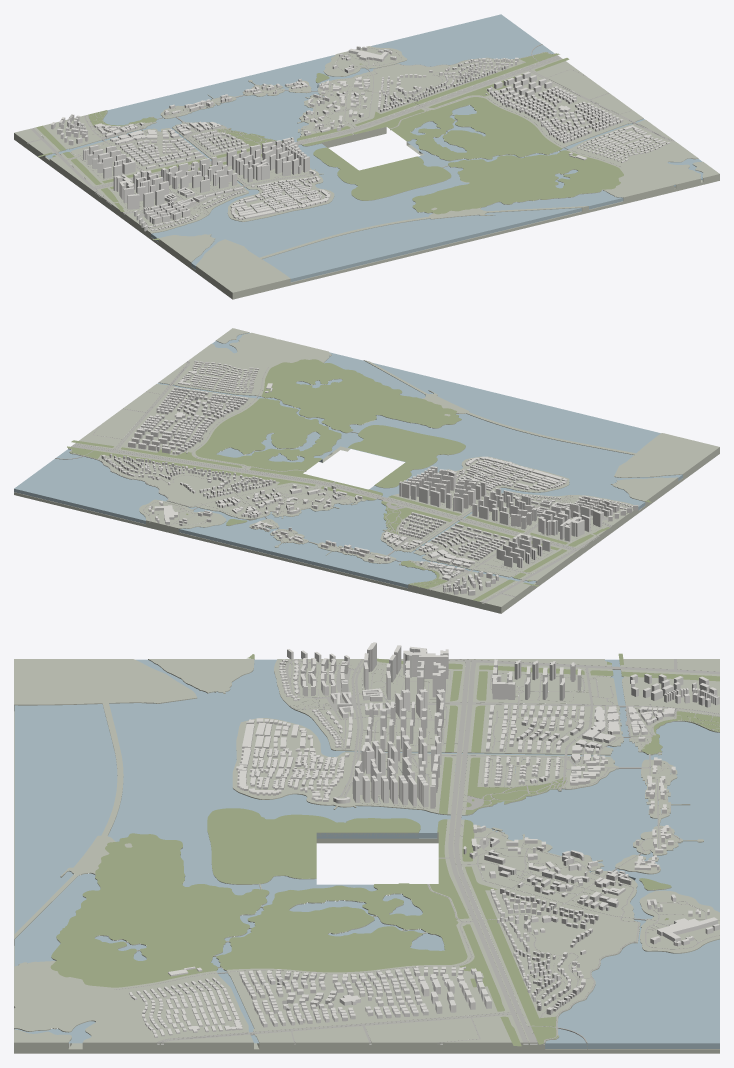
The model's file is site_outer.glb.
3 views of the same model, one above another, from view 1: azimuth 30°, elevation 25°; view 2: azimuth 150°, elevation 25°; view 3: azimuth 270°, elevation 25° (orthographic). The views are drawn at different scales.
Parts seen in each view (by area): view 1: site_outer|场地::地块|ground, site_outer|场地::water|water, site_outer|场地::house|house, site_outer|场地::grass|lawn, site_outer|场地::road|road, site_outer|场地::grass inside|lawn; view 2: site_outer|场地::地块|ground, site_outer|场地::water|water, site_outer|场地::house|house, site_outer|场地::grass|lawn, site_outer|场地::road|road, site_outer|场地::grass inside|lawn; view 3: site_outer|场地::地块|ground, site_outer|场地::water|water, site_outer|场地::house|house, site_outer|场地::grass|lawn, site_outer|场地::road|road, site_outer|场地::grass inside|lawn.
Boxes of the visible parts, box(x1,y1,x2,y2) form: site_outer|场地::地块|ground: box(14, 46, 719, 299); site_outer|场地::water|water: box(45, 14, 703, 282); site_outer|场地::house|house: box(51, 46, 670, 231); site_outer|场地::grass|lawn: box(36, 52, 623, 240); site_outer|场地::road|road: box(27, 44, 675, 229); site_outer|场地::grass inside|lawn: box(396, 100, 587, 211); site_outer|场地::地块|ground: box(14, 328, 719, 613); site_outer|场地::water|water: box(14, 332, 682, 587); site_outer|场地::house|house: box(101, 360, 638, 595); site_outer|场地::grass|lawn: box(67, 359, 651, 601); site_outer|场地::road|road: box(55, 360, 632, 603); site_outer|场地::grass inside|lawn: box(204, 370, 448, 466); site_outer|场地::地块|ground: box(14, 659, 719, 1053); site_outer|场地::water|water: box(14, 659, 719, 1048); site_outer|场地::house|house: box(129, 642, 719, 1037); site_outer|场地::grass|lawn: box(50, 653, 719, 1046); site_outer|场地::road|road: box(114, 659, 719, 1043); site_outer|场地::grass inside|lawn: box(68, 839, 452, 966).
Size of the model in its own units: 3806 by 149 by 2893.
